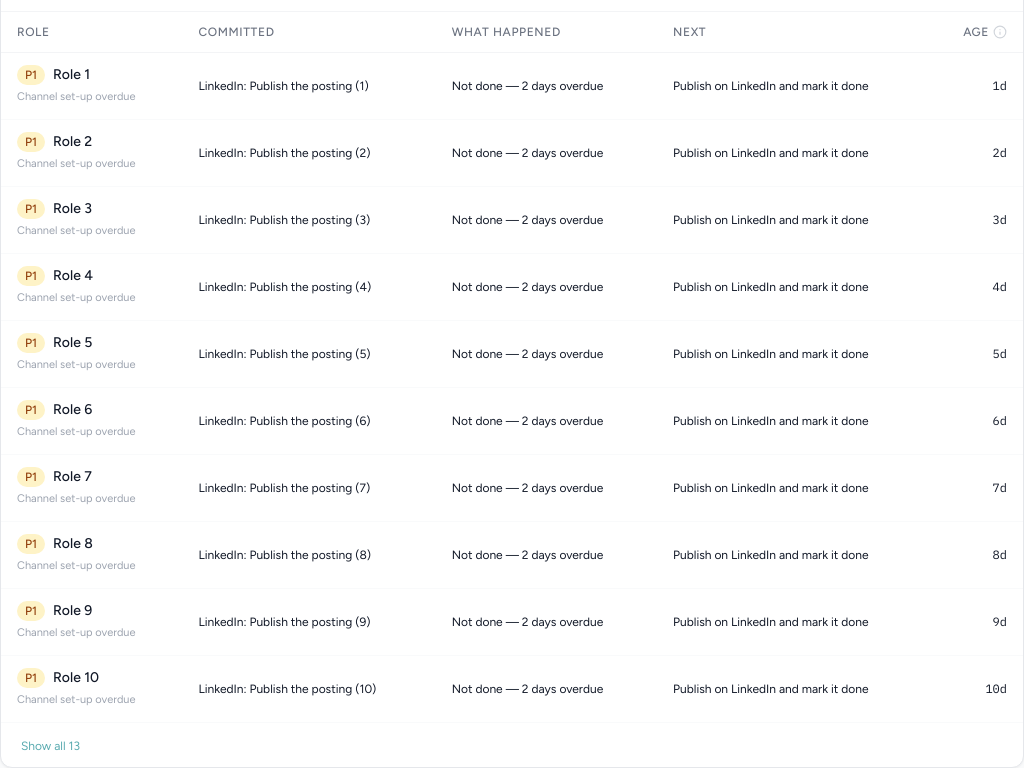
Test: Dashboard → Sourcing execution › shows the first 10 and offers "Show all"
This screenshot has width=1024, height=768.
(page scrolled)
Expected: the link "Role 1" is shown, [53,64,90,84]
Click the button "Show all 13".
click(51, 746)  # box [21,738,80,754]
(page scrolled)
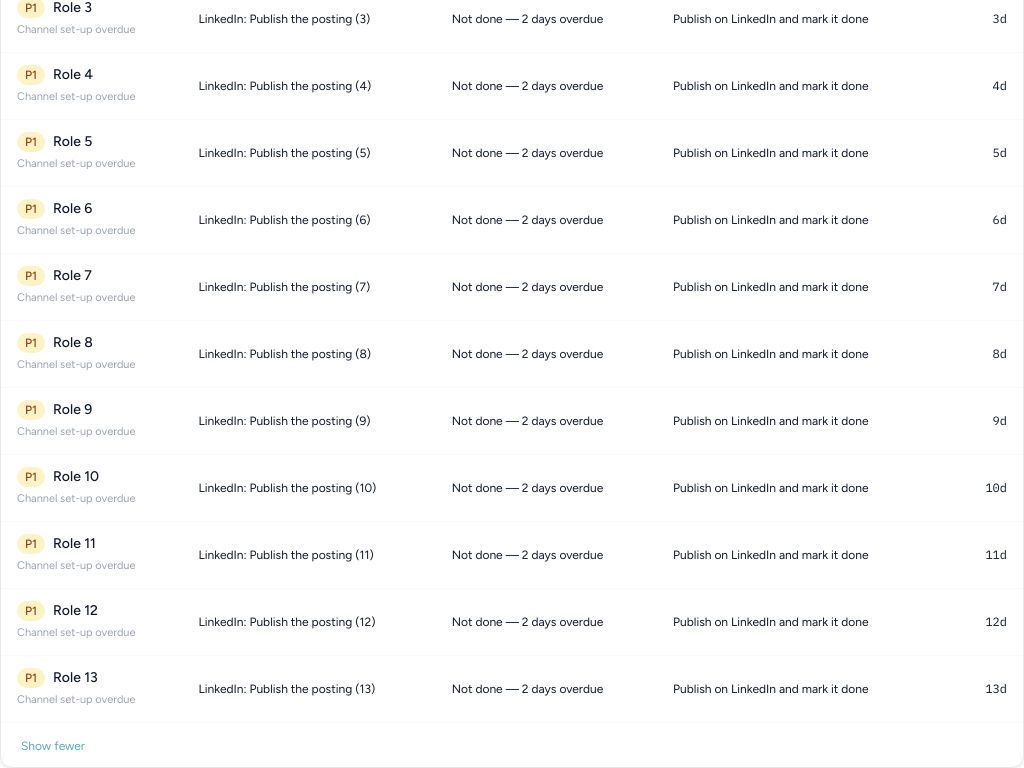
Result: the button "Show fewer" is shown at [21,738,85,754]
